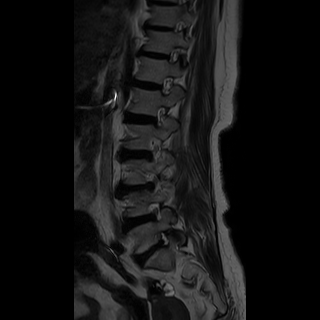RFS0: (138, 197, 166, 229), (147, 99, 169, 132)
